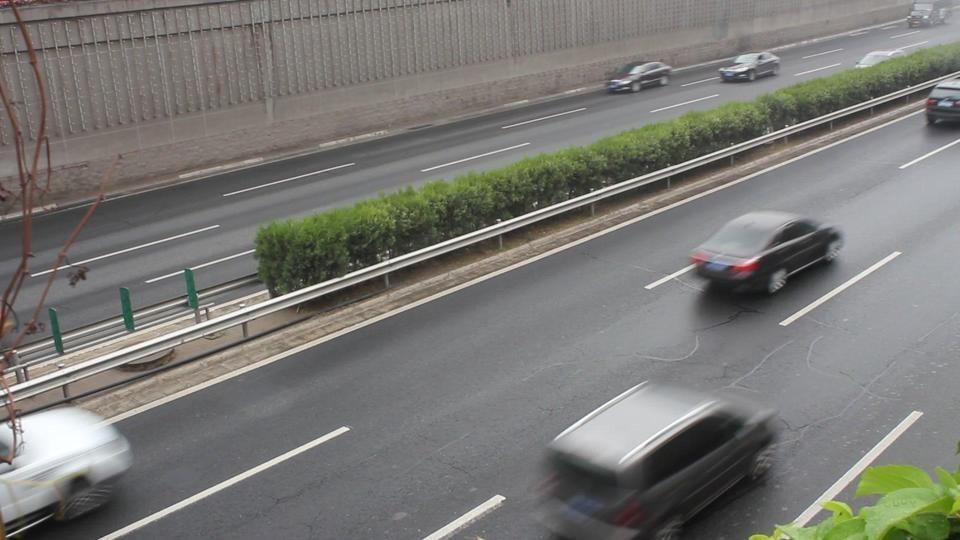car: (541, 380, 782, 535), (0, 401, 135, 537), (688, 210, 846, 297), (606, 60, 671, 94), (719, 51, 781, 82), (924, 75, 960, 127), (908, 1, 950, 28)
